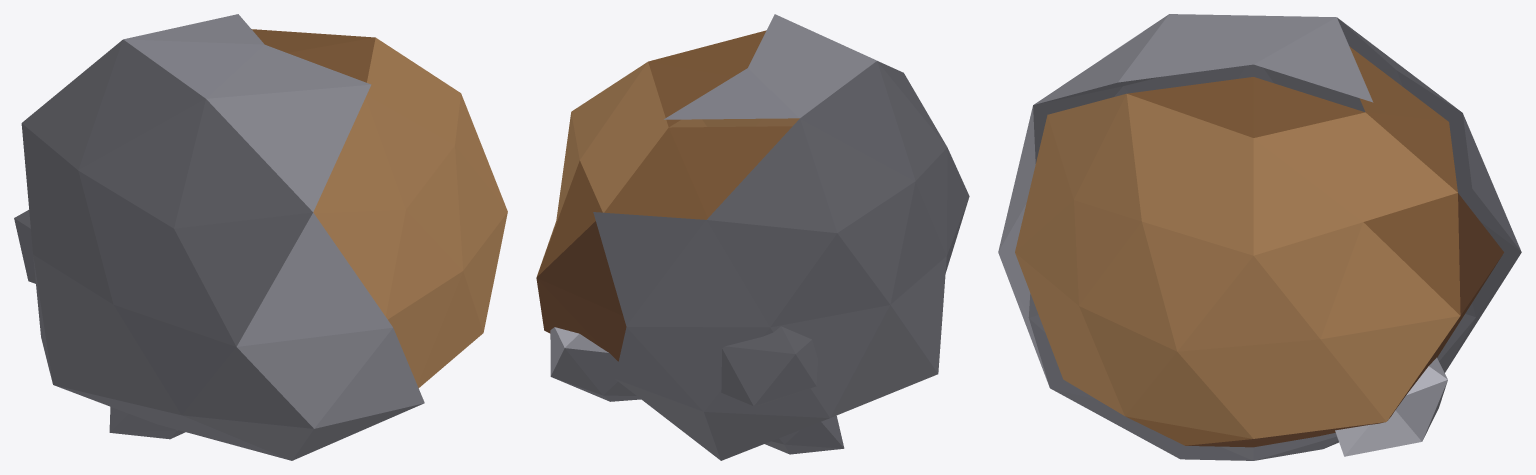
Rendered from proj_rock.glb.
3 renders of one model, left to right at view 1: azimuth 30°, elevation 25°; view 2: azimuth 150°, elevation 25°; view 3: azimuth 270°, elevation 25°, orthographic. The views are drawn at different scales.
Parts seen in each view (by area): view 1: Proj_stone, Proj_dirt, Proj_rock_1, Proj_rock_2; view 2: Proj_stone, Proj_dirt, Proj_rock_2, Proj_rock_0, Proj_rock_1; view 3: Proj_dirt, Proj_stone, Proj_rock_0.
Part boxes in pixels (left/top/right/bottom): Proj_stone: left=21, top=14, right=424, bottom=460; Proj_dirt: left=251, top=29, right=507, bottom=387; Proj_rock_1: left=109, top=407, right=185, bottom=439; Proj_rock_2: left=14, top=210, right=35, bottom=283; Proj_stone: left=593, top=14, right=969, bottom=460; Proj_dirt: left=536, top=30, right=799, bottom=361; Proj_rock_2: left=721, top=326, right=818, bottom=406; Proj_rock_0: left=550, top=327, right=640, bottom=401; Proj_rock_1: left=765, top=415, right=844, bottom=454; Proj_dirt: left=1015, top=46, right=1503, bottom=447; Proj_stone: left=998, top=14, right=1521, bottom=460; Proj_rock_0: left=1335, top=357, right=1447, bottom=456.
Size of the model in its own units: 0.6148 by 0.5647 by 0.6734.
